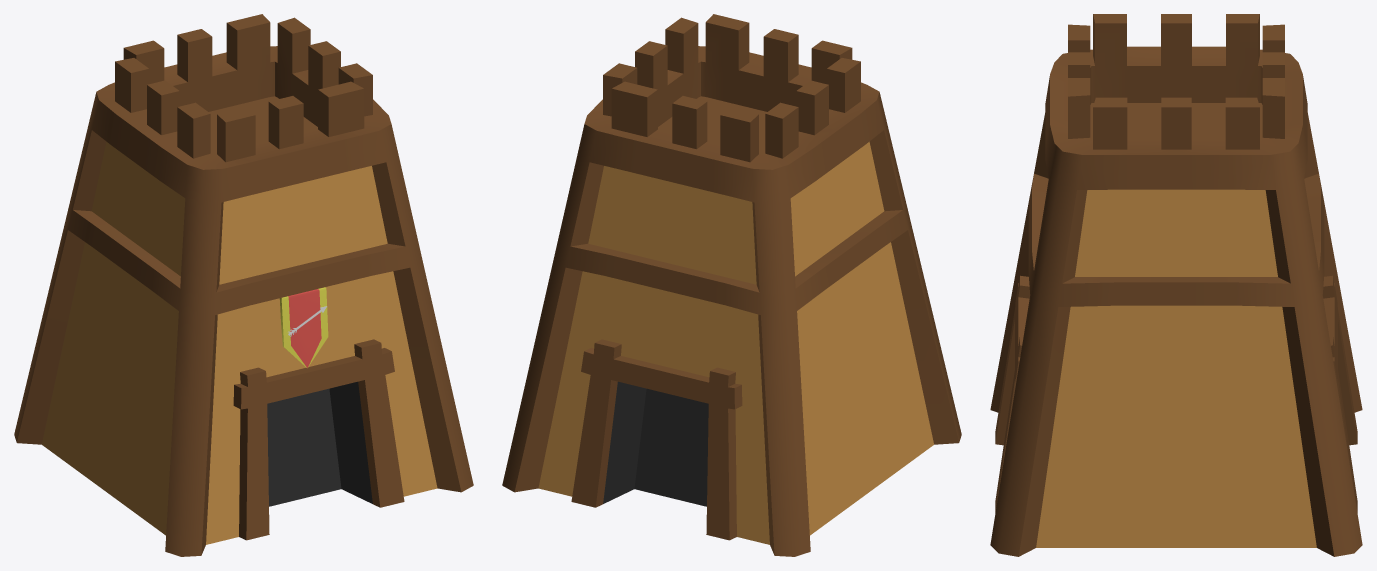
The model's file is arrow tower level 2.fbx.
3 views of the same model, side by side, from view 1: azimuth 30°, elevation 25°; view 2: azimuth 150°, elevation 25°; view 3: azimuth 270°, elevation 25° (orthographic). The views are drawn at different scales.
Parts seen in each view (by area): view 1: Cube.044; view 2: Cube.044; view 3: Cube.044.
Boxes of the visible parts, box(x1,y1,x2,y2) form: Cube.044: box(14, 14, 473, 556); Cube.044: box(502, 14, 961, 556); Cube.044: box(990, 14, 1362, 556).
Size of the model in its own units: 2554 by 3186 by 2529.
